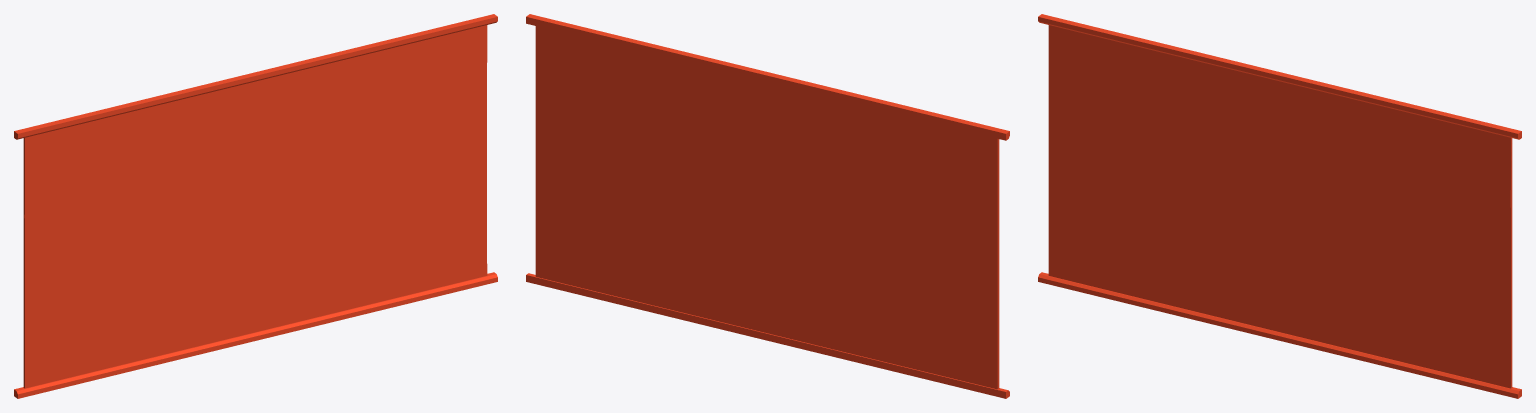
The model's file is SM_Billboard_Ocean_City.fbx.
3 renders of one model, left to right at view 1: azimuth 30°, elevation 25°; view 2: azimuth 150°, elevation 25°; view 3: azimuth 330°, elevation 25°, orthographic.
Parts seen in each view (by area): view 1: SM_Billboard_Ocean_City; view 2: SM_Billboard_Ocean_City; view 3: SM_Billboard_Ocean_City.
Boxes of the visible parts, box(x1,y1,x2,y2) form: SM_Billboard_Ocean_City: box(14, 14, 497, 398); SM_Billboard_Ocean_City: box(526, 14, 1009, 398); SM_Billboard_Ocean_City: box(1038, 14, 1521, 398).
Bounding box in the file's own units: 6.42 × 3.39 × 0.0878.
